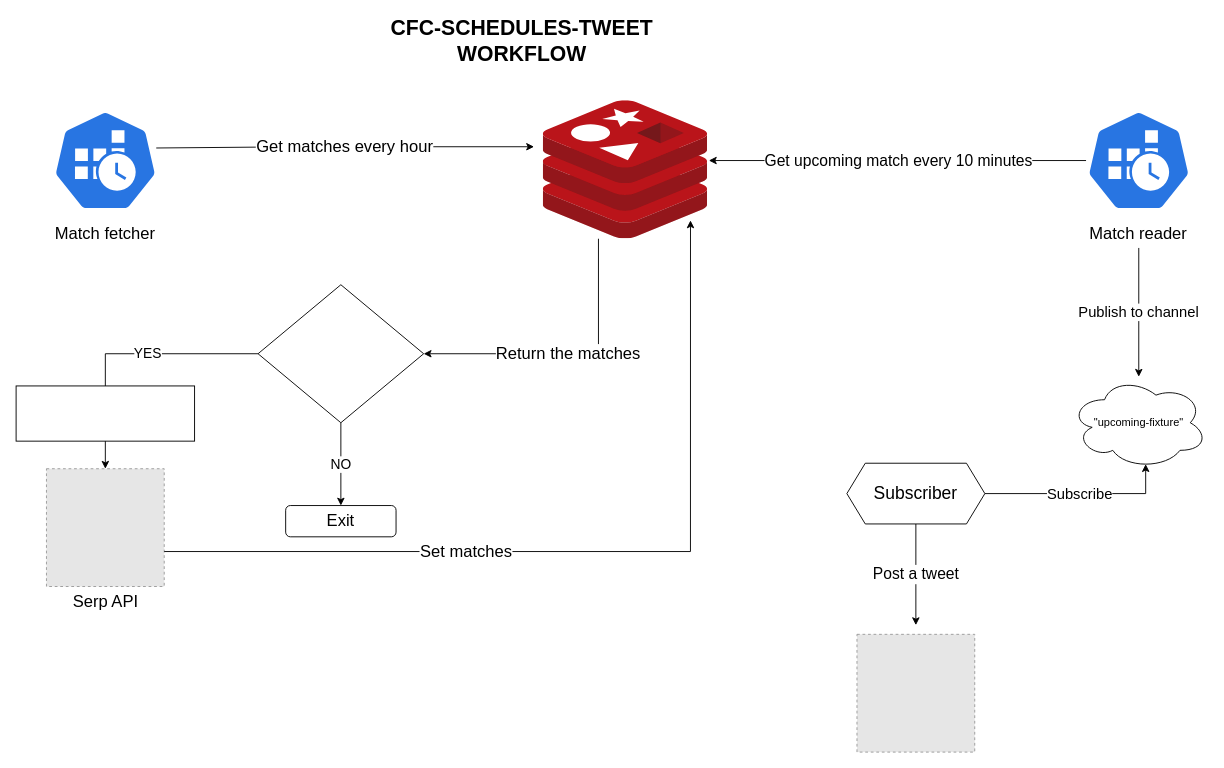
Image size: 1224x768. Some labels were removed from this diagram. Grey dashed boxes stand in for pictures. The shapes that lost their labels are listed below. From the top down, each one's centre as x and y in pixels, then its label:
the point at 340,353: undefined || expire in < 1 hour
the point at 105,413: Fetch from API
